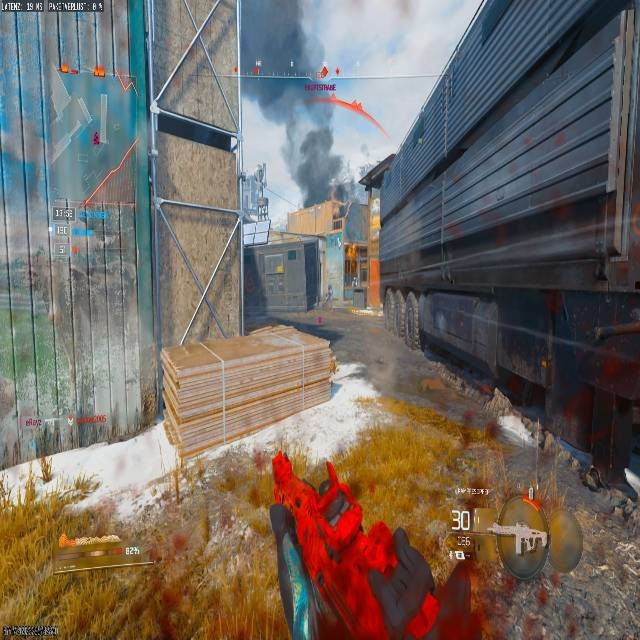player: (324, 284, 334, 305)
